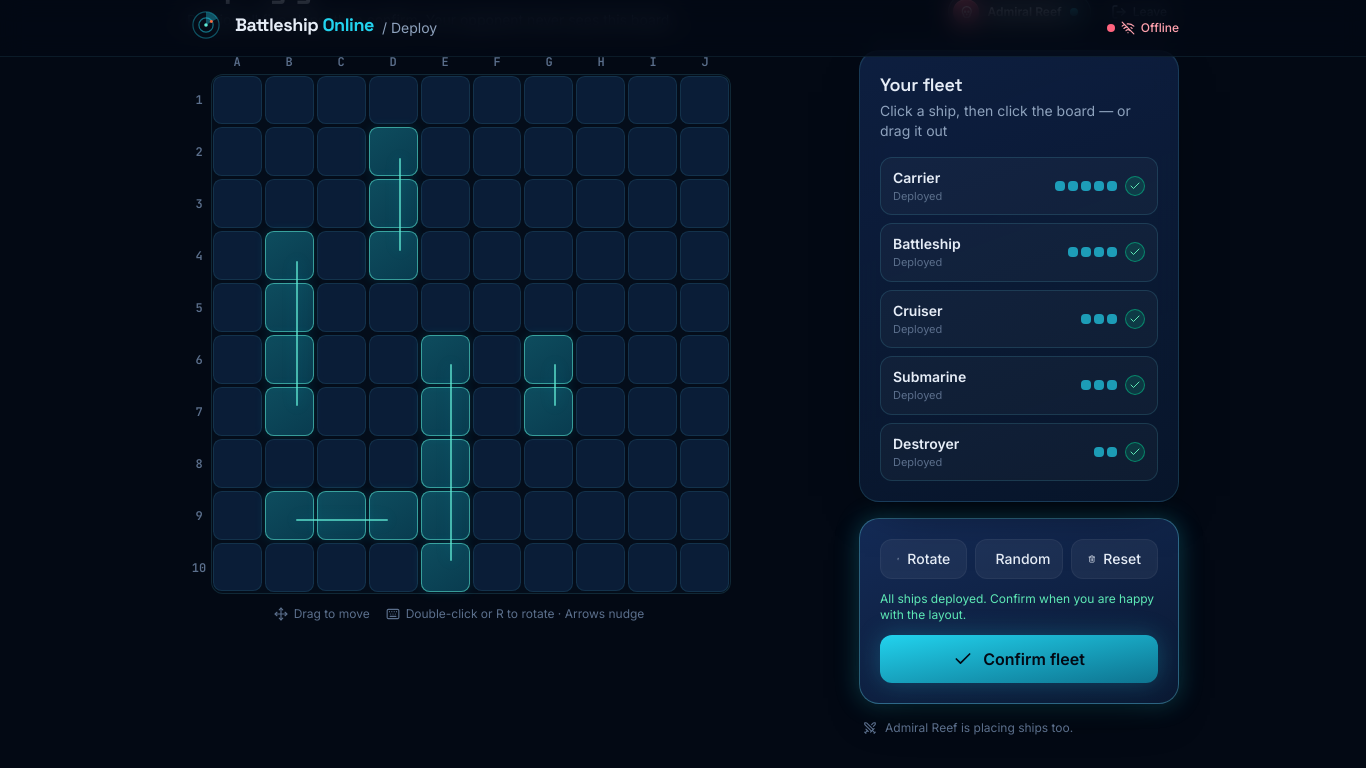
it: PlacementScreen › renders the board and an enabled confirm button for the default valid draft, then confirms the 5-ship fleet
The image size is (1366, 768).
(page scrolled)
expect the element with test id "placement-board" is shown: met, box left=187, top=50, right=731, bottom=594
expect the button with test id "randomize-fleet" is shown: met, box left=975, top=539, right=1063, bottom=579
Click the button with test id "confirm-fleet" at coordinates (1019, 659), box left=880, top=635, right=1158, bottom=683
(page scrolled)
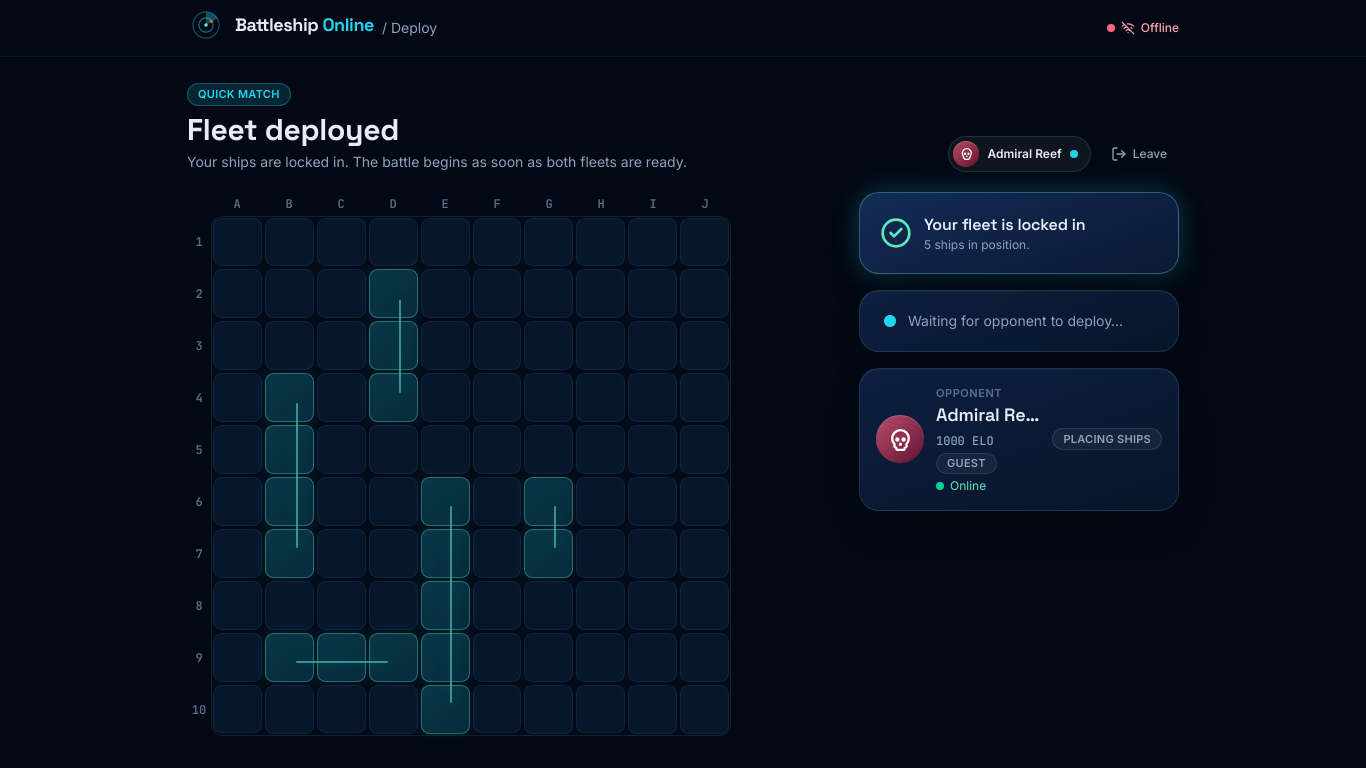
expect the message "Waiting for opponent to deploy…" is shown: met, box left=880, top=310, right=1158, bottom=330
